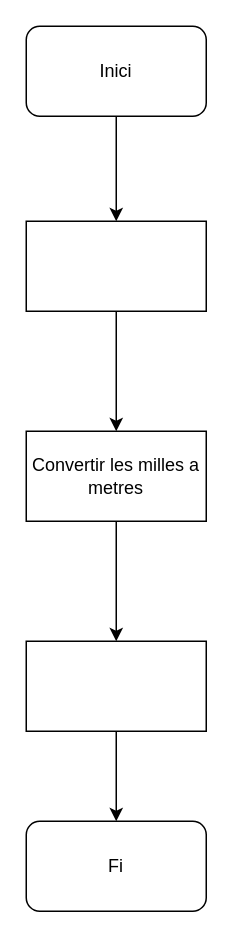
Some shapes in this 233 by 938 pixel diagram are drawn without their labels. The shapes that lost their labels are listed below. From the top down, each one's centre as x and y in pixels, then its label:
the point at 115,265: Llegir el nombre de milles marines
the point at 115,685: Mostrar el resultat de la conversió
